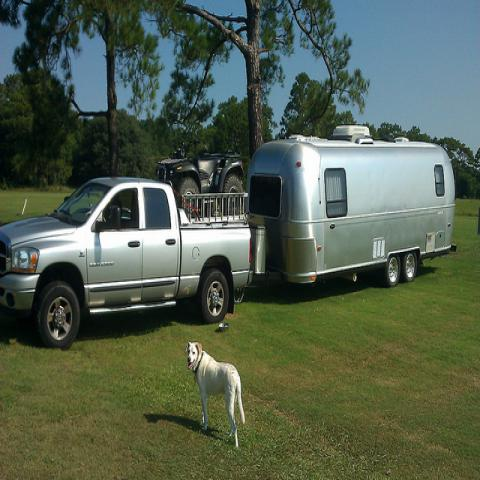truck: (0, 174, 255, 350), (153, 136, 248, 192)
